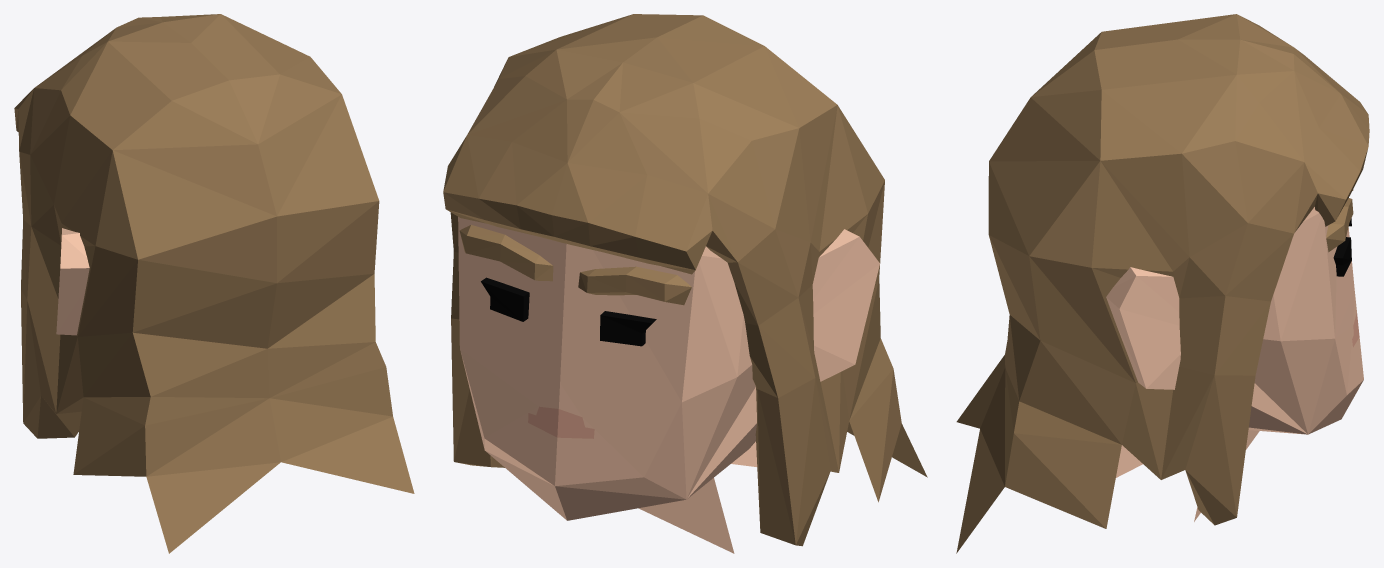
File: Head.obj
3 renders of one model, left to right at view 1: azimuth 30°, elevation 25°; view 2: azimuth 150°, elevation 25°; view 3: azimuth 270°, elevation 25°, orthographic. The views are drawn at different scales.
Size of the model in its own units: 0.2831 by 0.3499 by 0.2922.
1 material, 1 textured.
